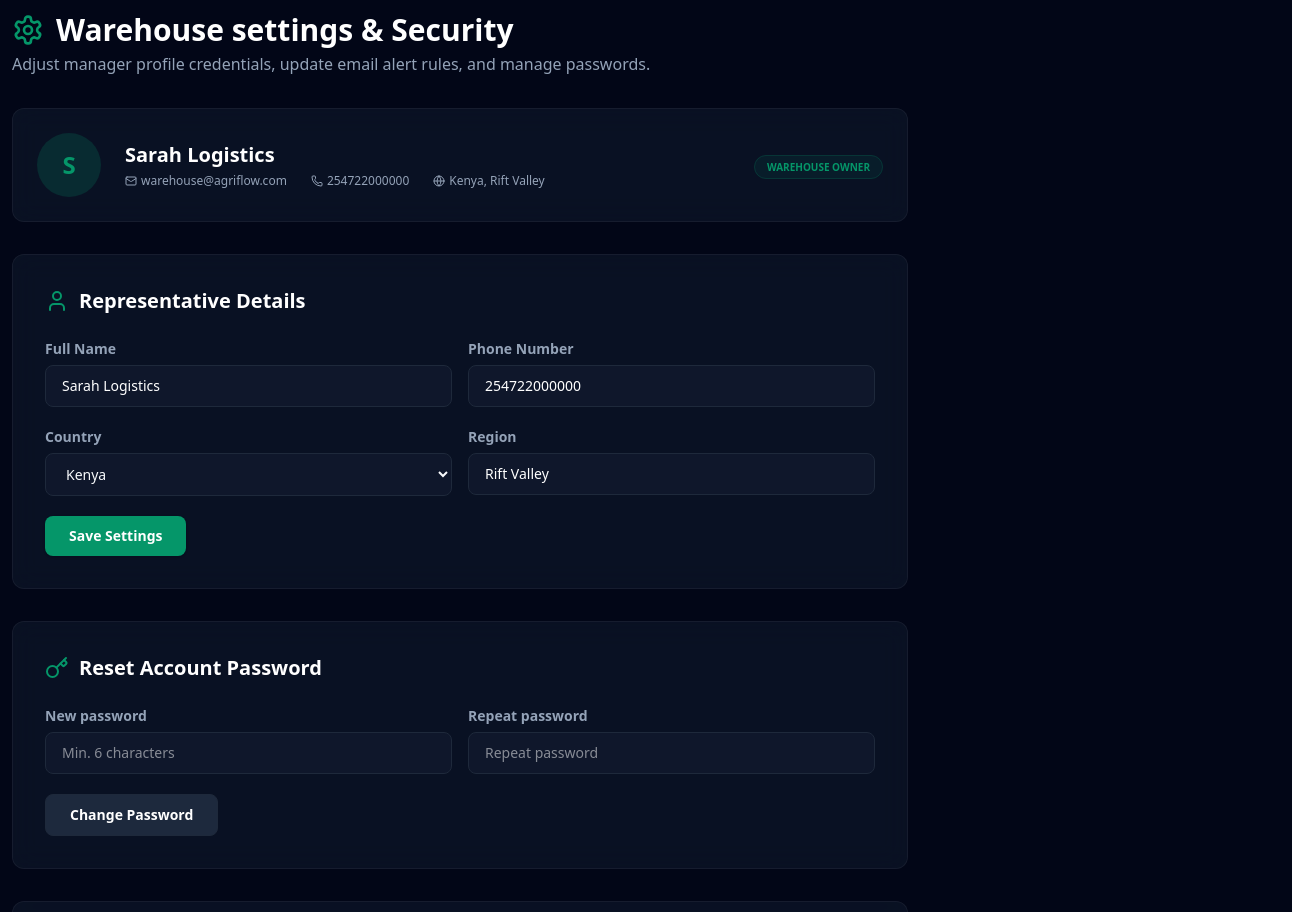
Test case: WarehouseSettings Page Component › handles password change validation error for mismatch
In the password field with placeholder "Min. 6 characters": (248, 753) [45,732,452,774], type "password123"
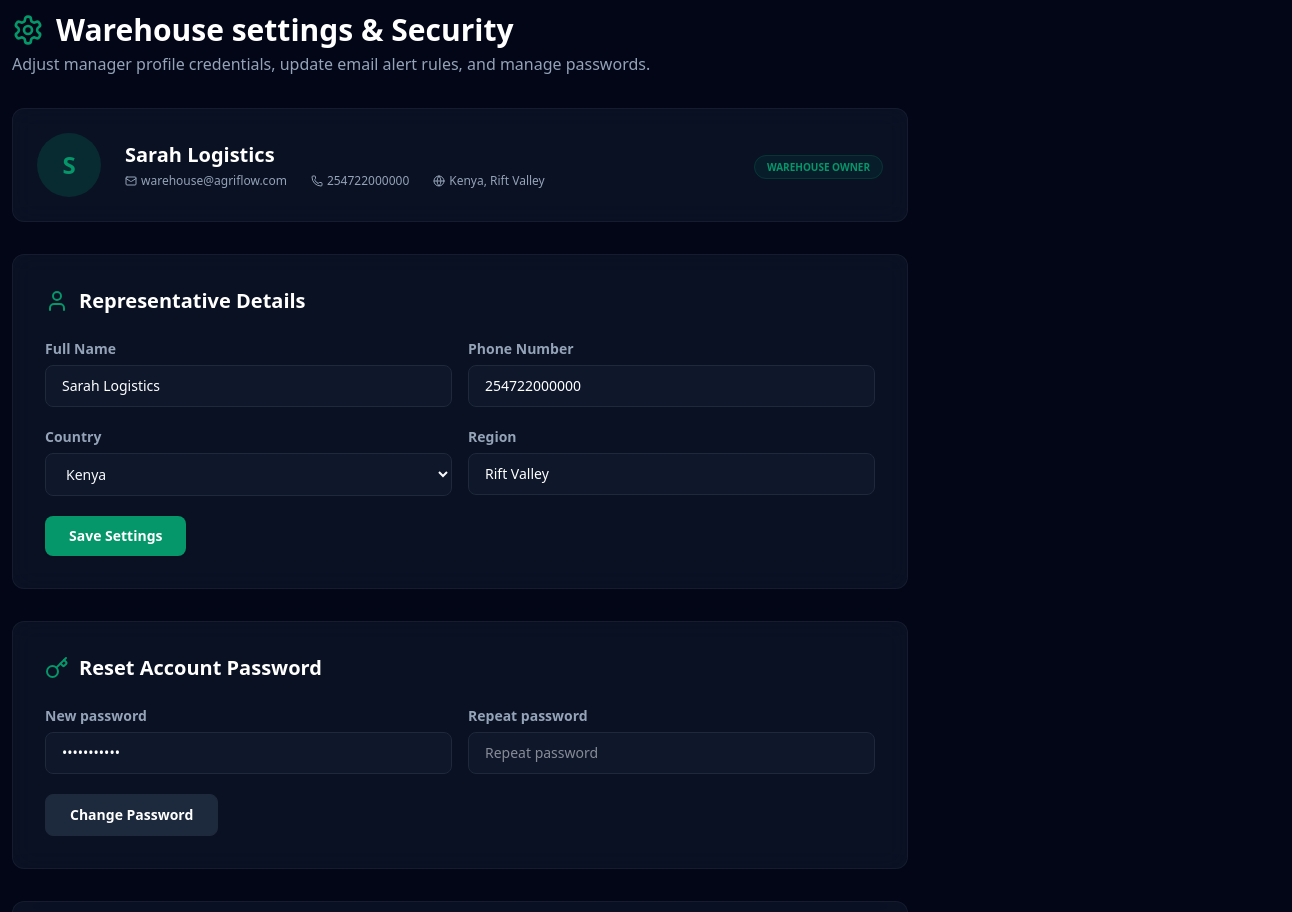
In the password field with placeholder "Repeat password": (672, 753) [468,732,875,774], type "password456"
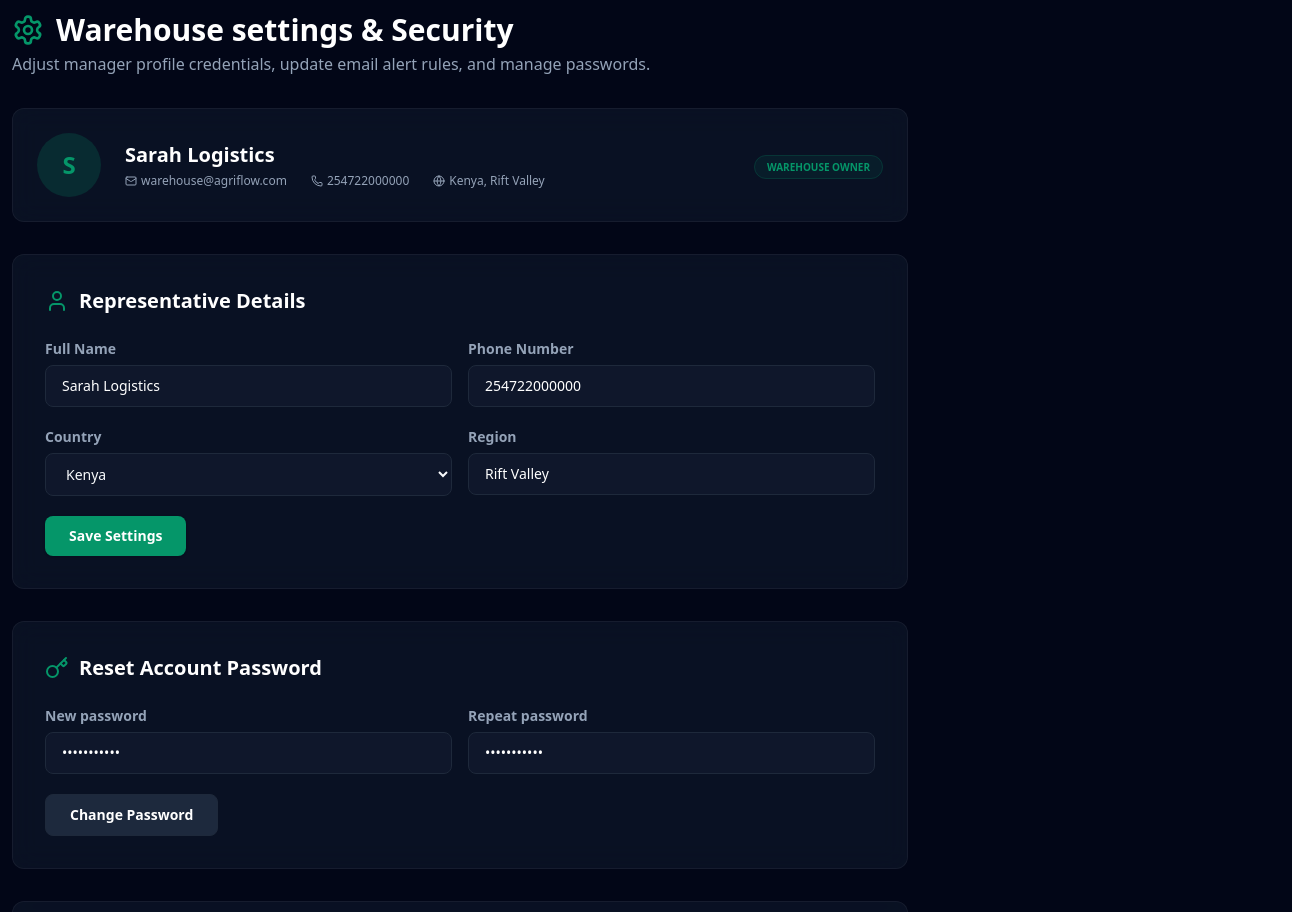
Click the button "Change Password": (132, 815) [45,794,218,836]
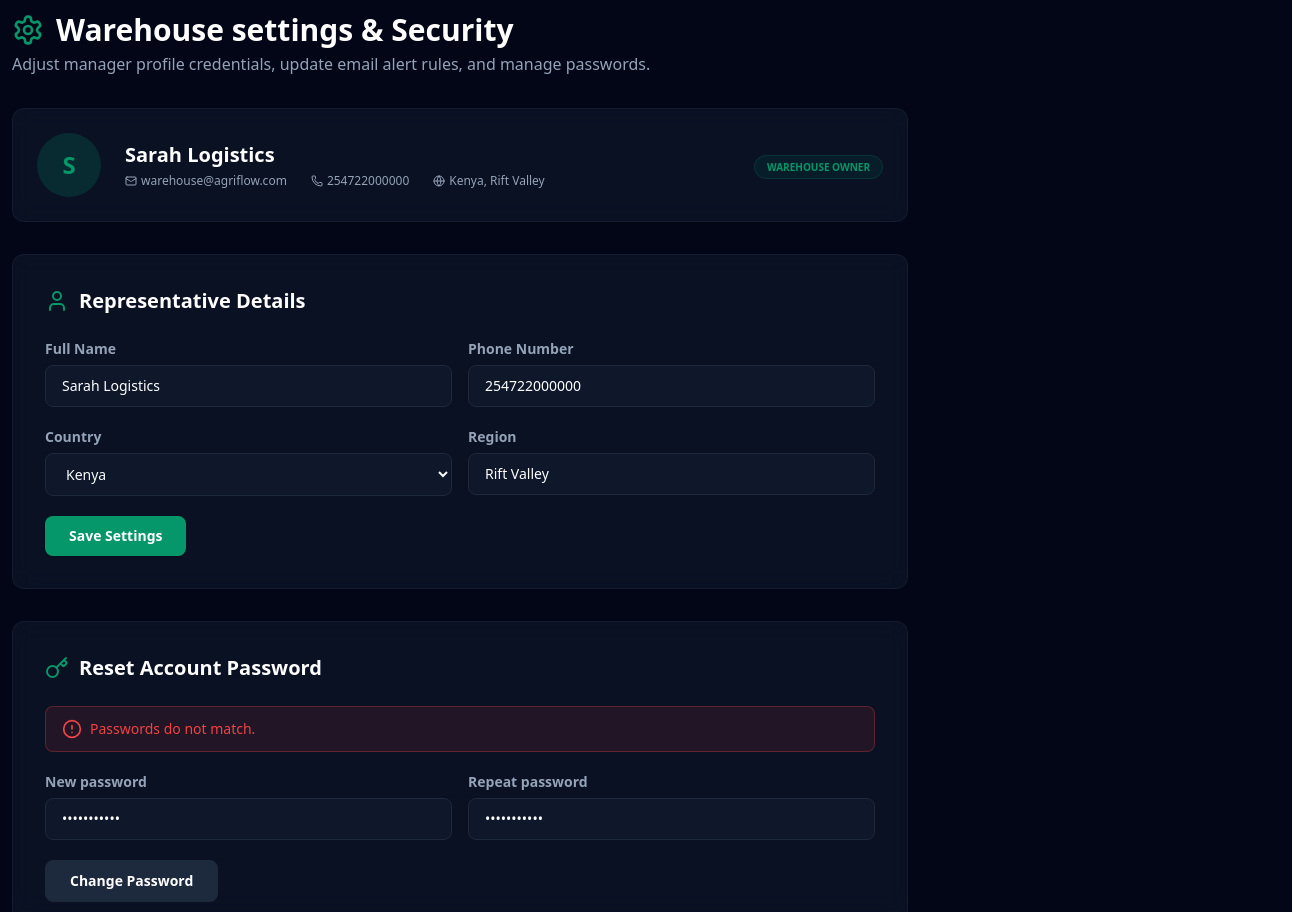
Expected: the text "Passwords do not match." is shown, [90,719,255,739]
